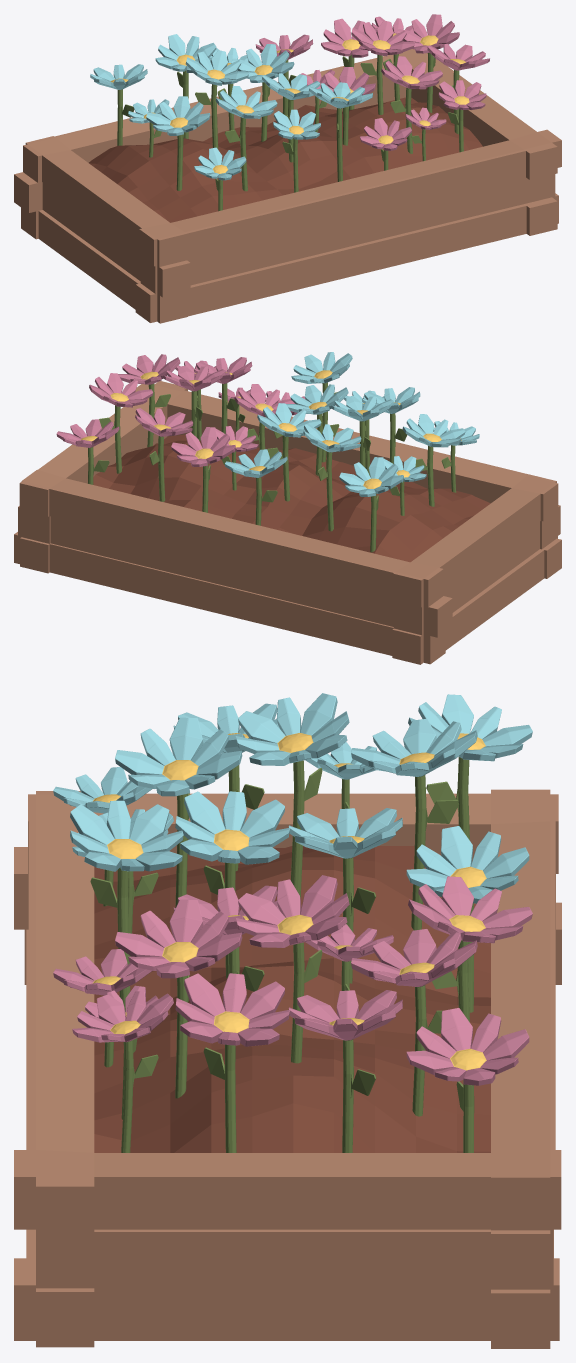
Rendered from planting_area_1_garden.fbx.
3 renders of one model, top to bottom at view 1: azimuth 30°, elevation 25°; view 2: azimuth 150°, elevation 25°; view 3: azimuth 270°, elevation 25°, orthographic. The views are drawn at different scales.
Parts seen in each view (by area): view 1: planting_area_1_garden, Cube.001, Cube.005, Cube.002, Cube.007, Cube.006; view 2: planting_area_1_garden, Cube.001, Cube.005, Cube.002, Cube.007, Cube.006; view 3: planting_area_1_garden, Cube.001, Cube.005, Cube.002, Cube.007, Cube.006.
Boxes of the visible parts, left/top/right/bottom form: planting_area_1_garden: left=14, top=49, right=561, bottom=323; Cube.001: left=89, top=97, right=482, bottom=222; Cube.005: left=90, top=34, right=372, bottom=180; Cube.002: left=255, top=14, right=489, bottom=150; Cube.007: left=117, top=52, right=463, bottom=211; Cube.006: left=110, top=33, right=469, bottom=173; planting_area_1_garden: left=14, top=381, right=561, bottom=664; Cube.001: left=93, top=434, right=490, bottom=562; Cube.005: left=225, top=352, right=479, bottom=496; Cube.002: left=56, top=354, right=305, bottom=466; Cube.007: left=88, top=382, right=456, bottom=552; Cube.006: left=81, top=370, right=461, bottom=488; planting_area_1_garden: left=14, top=789, right=561, bottom=1348; Cube.001: left=94, top=846, right=490, bottom=1152; Cube.005: left=53, top=693, right=532, bottom=903; Cube.002: left=53, top=875, right=532, bottom=1085; Cube.007: left=90, top=757, right=474, bottom=1152; Cube.006: left=92, top=733, right=486, bottom=1070.
Size of the model in its own units: 123 by 52.12 by 70.22.
